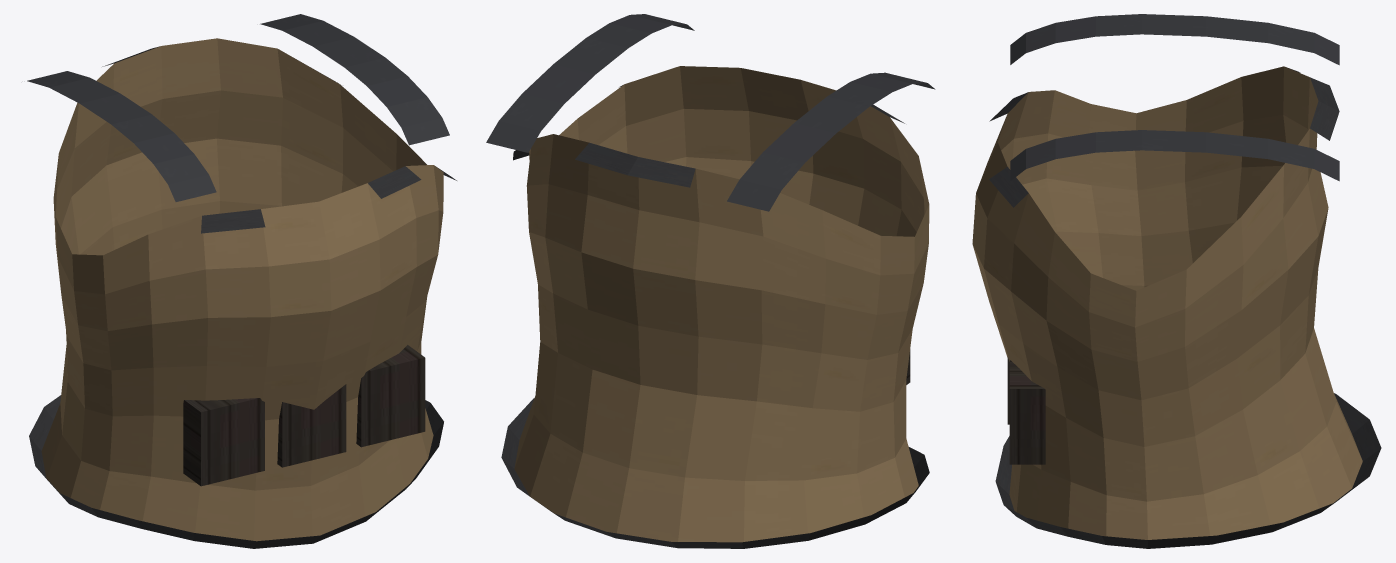
File: eq_present_2_chest.glb
The picture shows the model from 3 angles, left to right: view 1: azimuth 30°, elevation 25°; view 2: azimuth 150°, elevation 25°; view 3: azimuth 270°, elevation 25°; orthographic projection. The views are drawn at different scales.
Parts seen in each view (by area): view 1: eq_present_2_chest; view 2: eq_present_2_chest; view 3: eq_present_2_chest.
Part boxes in pixels (bbox=[...]): eq_present_2_chest: bbox=[27, 14, 456, 548]; eq_present_2_chest: bbox=[486, 14, 935, 548]; eq_present_2_chest: bbox=[972, 14, 1381, 548].
Bounding box in the file's own units: 0.4431 × 0.4486 × 0.403.
4 materials, 4 textured.
